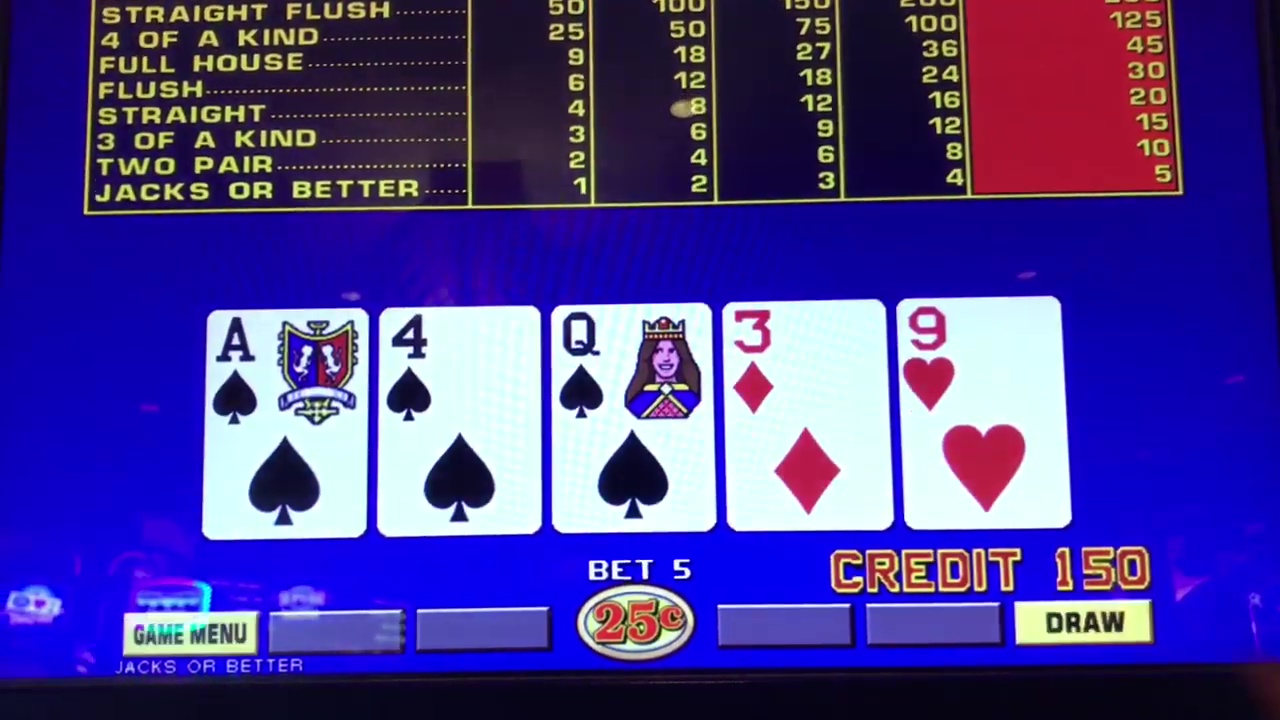D3: (724, 301, 885, 531)
H9: (905, 300, 1062, 528)
S4: (385, 309, 537, 534)
SA: (208, 310, 366, 537)
SQ: (558, 305, 705, 531)
